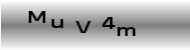4: (101, 16, 115, 30)
M: (27, 10, 46, 24)
V: (75, 20, 91, 34)
m: (115, 26, 137, 37)
u: (50, 17, 64, 29)
